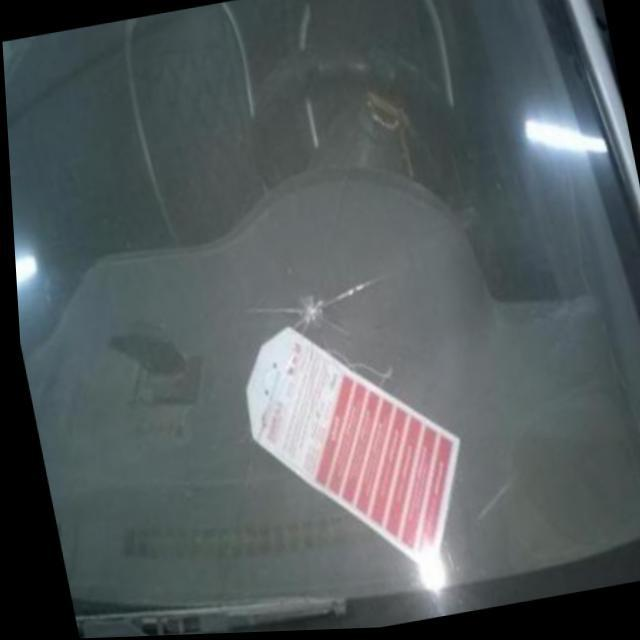glass shatter: (273, 265, 347, 356)
